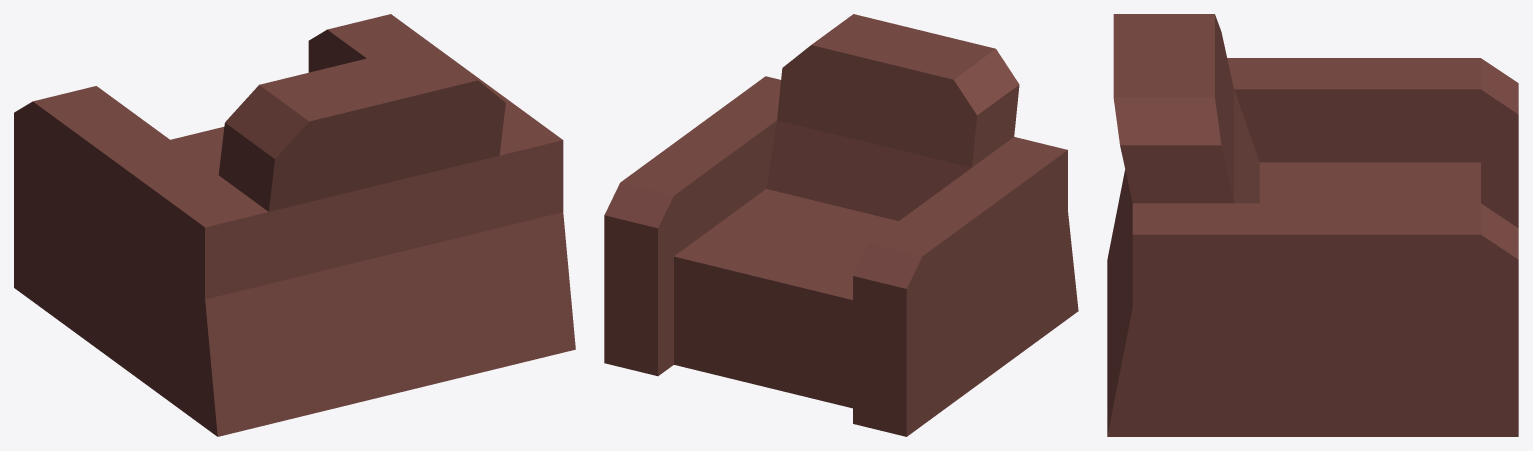
Rendered from Sofa01.fbx.
3 views of the same model, side by side, from view 1: azimuth 30°, elevation 25°; view 2: azimuth 150°, elevation 25°; view 3: azimuth 270°, elevation 25° (orthographic). The views are drawn at different scales.
Visible parts, largest first — view 1: Sofa1; view 2: Sofa1; view 3: Sofa1.
Part boxes in pixels (x1,y1,x2,y2): Sofa1: [14, 14, 575, 436]; Sofa1: [604, 14, 1078, 436]; Sofa1: [1107, 14, 1518, 436].
Size of the model in its own units: 1.72 by 1.69 by 1.33.
